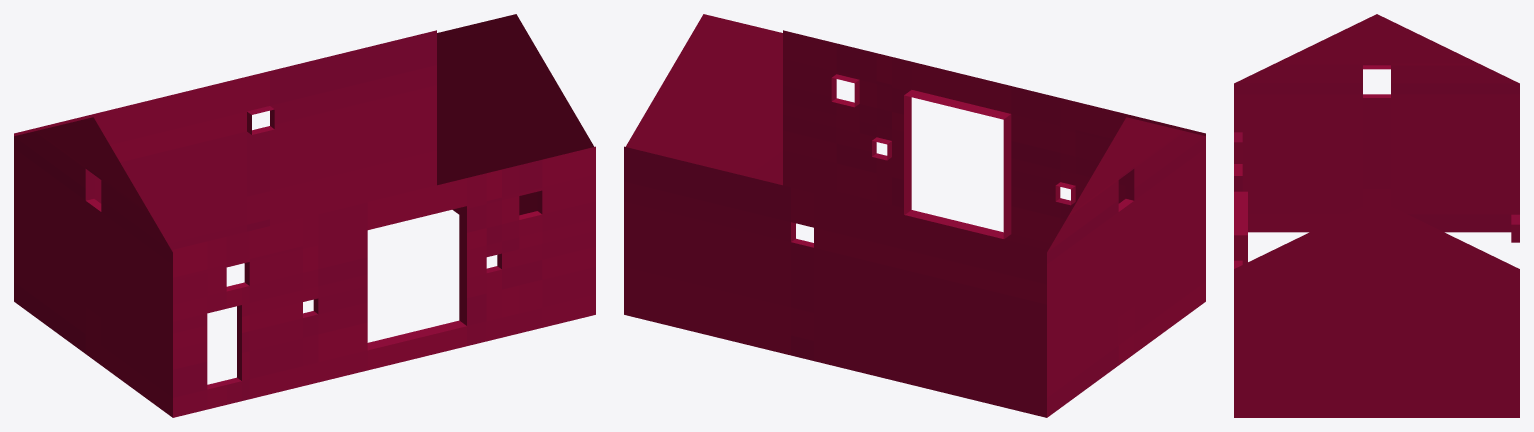
The model's file is SM_Bld_005_Masonry.glb.
3 renders of one model, left to right at view 1: azimuth 30°, elevation 25°; view 2: azimuth 150°, elevation 25°; view 3: azimuth 270°, elevation 25°, orthographic. The views are drawn at different scales.
Visible parts, largest first — view 1: SM_Bld_005_Masonry; view 2: SM_Bld_005_Masonry; view 3: SM_Bld_005_Masonry.
Part boxes in pixels (x1,y1,x2,y2): SM_Bld_005_Masonry: [14, 14, 595, 417]; SM_Bld_005_Masonry: [624, 14, 1205, 417]; SM_Bld_005_Masonry: [1234, 14, 1519, 417].
Bounding box in the file's own units: 11.05 × 6.06 × 7.19.
